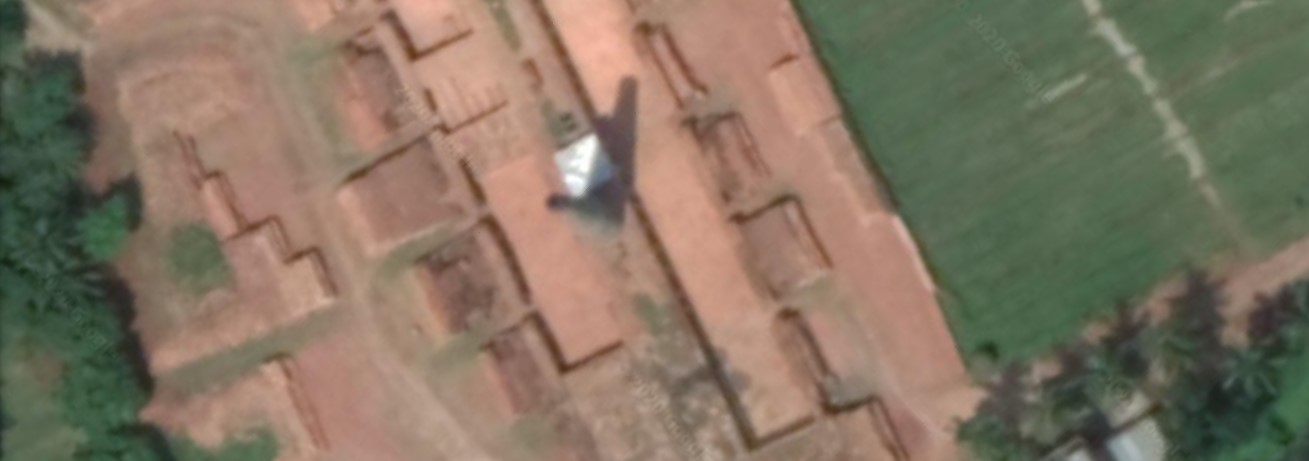kiln: (241, 5, 910, 415)
